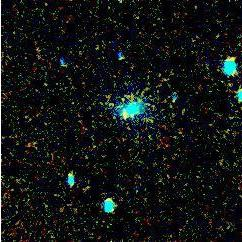star: (109, 100, 139, 130)
